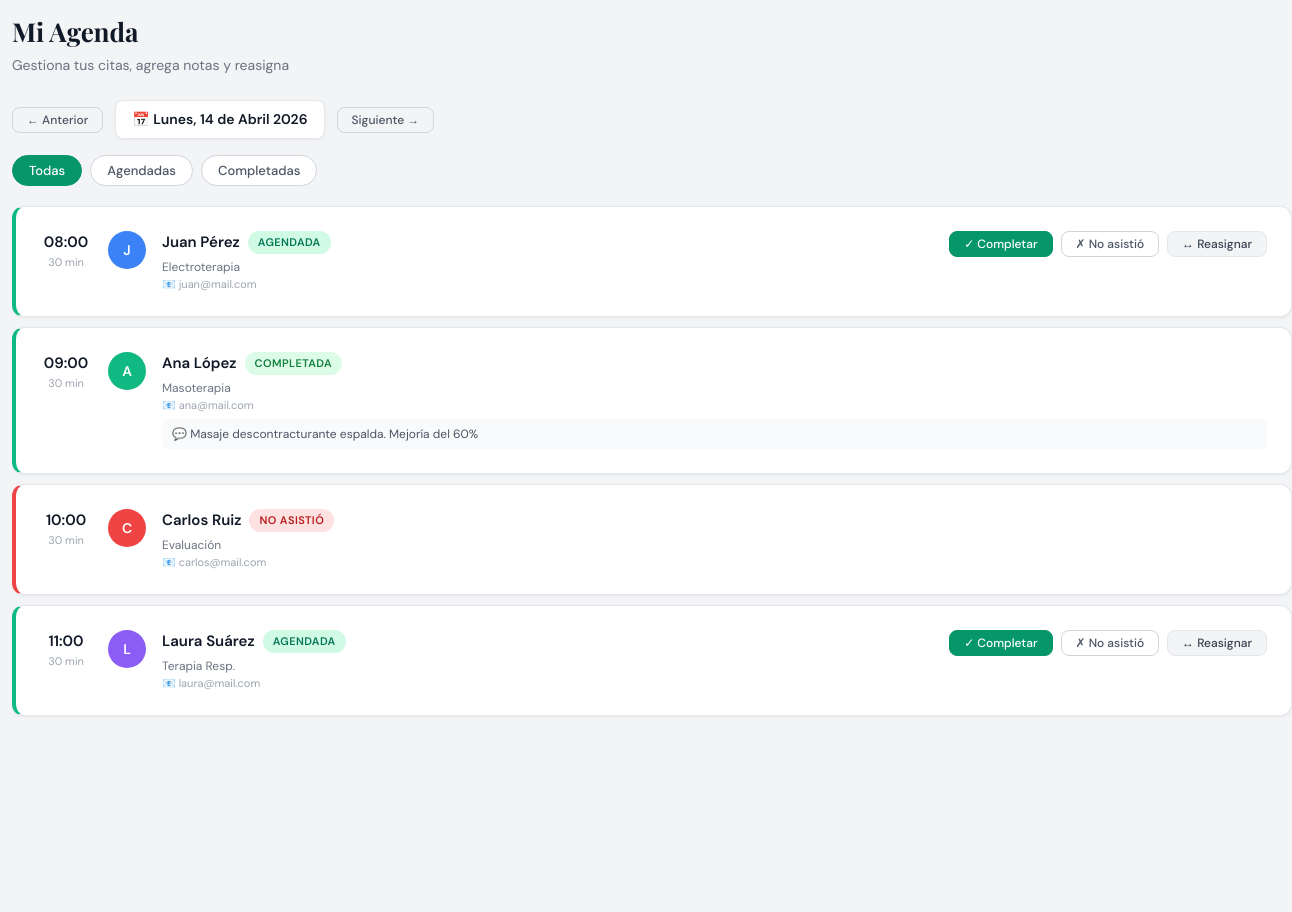
Test: <MiAgenda /> › volver a "Todas" restaura todas las citas
Click the button "Agendadas". click: [142, 170]
box: [90,155,193,186]
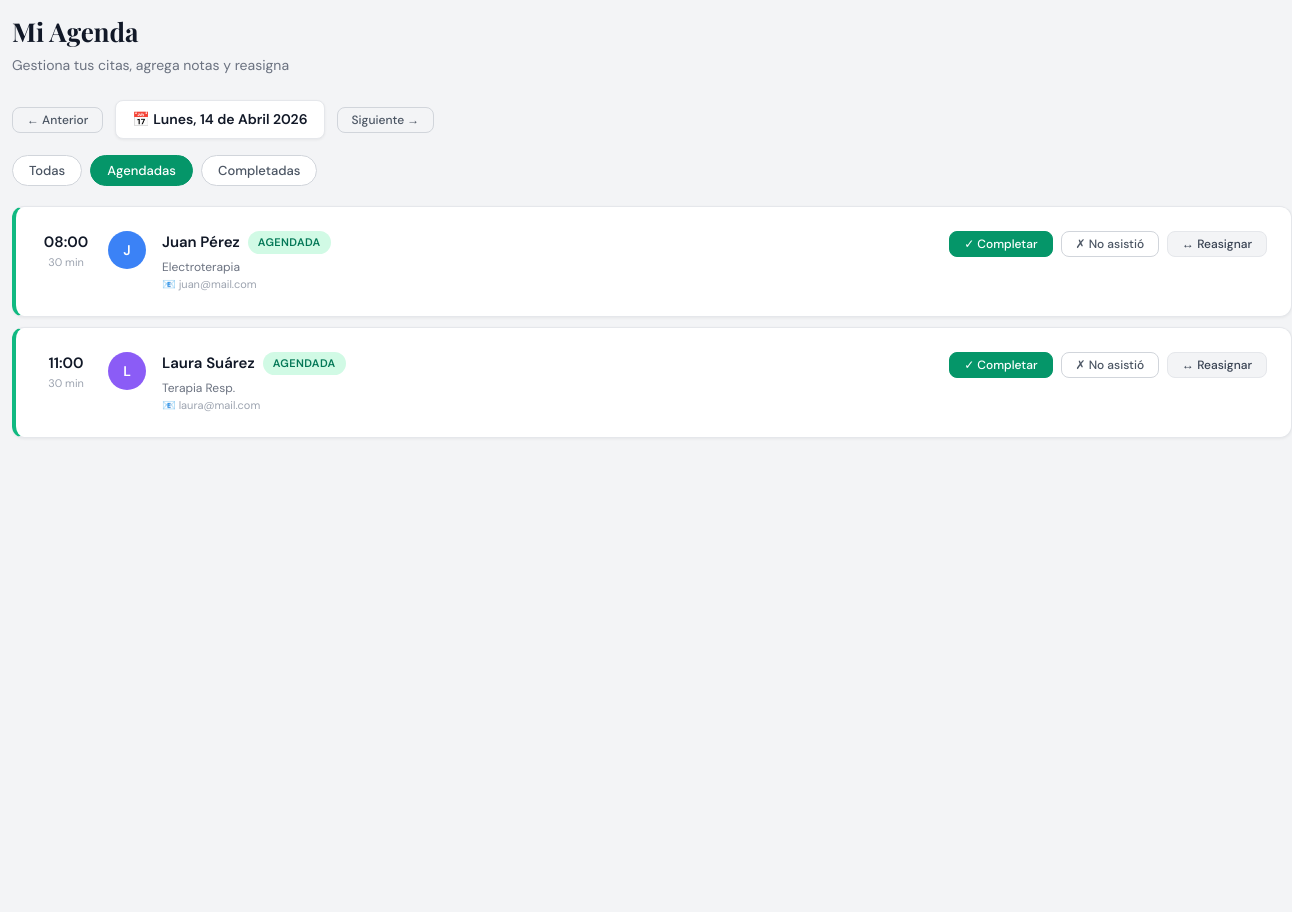
Click the button "Todas". click: [47, 170]
box: [12,155,82,186]
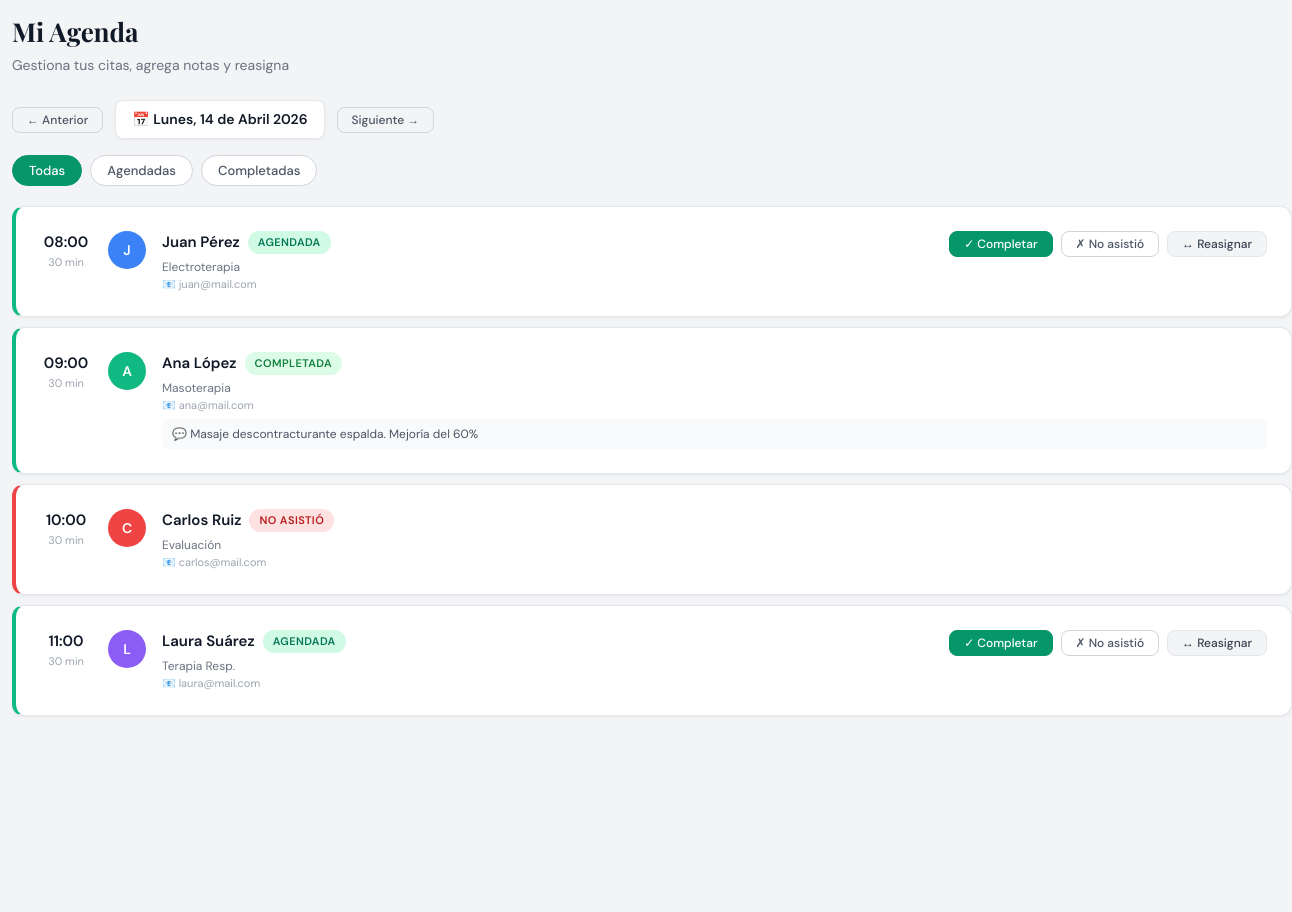
Expected: the text "Juan Pérez" is shown, [162,231,240,254]
Expected: the text "Ana López" is shown, [162,352,236,374]
Expected: the text "Carlos Ruiz" is shown, [162,509,242,532]
